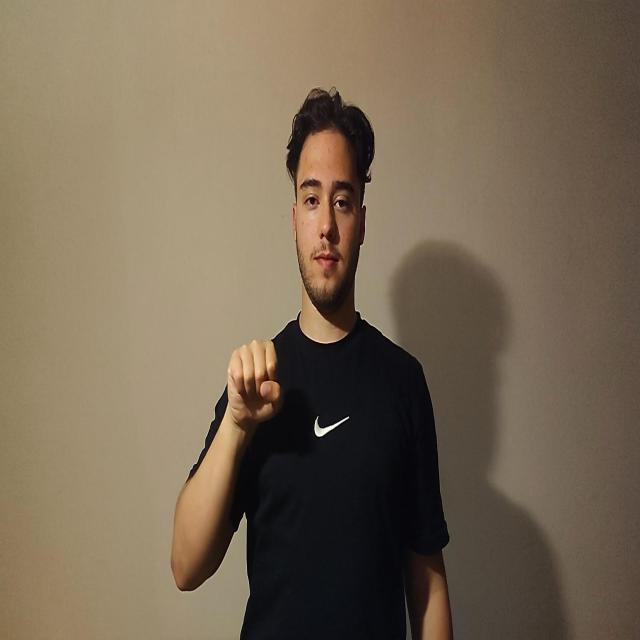yes: (227, 337, 284, 434)
